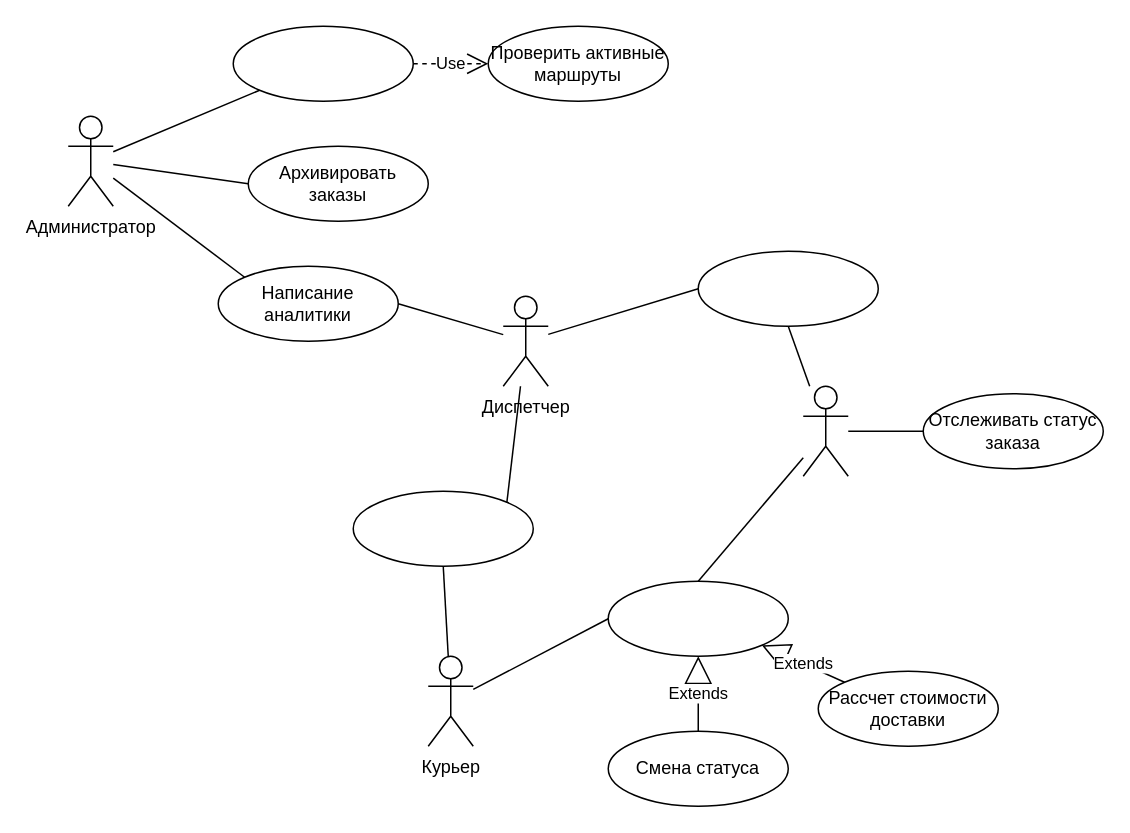
This 1130x833 diagram has some shape labels left out. The shapes that lost their labels are listed below. From the top down, each one's box as (x1, y1, x2, y2) in pixels, then its label:
(232, 25, 413, 101): Блокировать курьера
(697, 250, 878, 326): Оформить заказ
(802, 385, 848, 476): Закзачик
(352, 490, 533, 566): Назначить курьера
(607, 580, 788, 656): Доставить заказ
